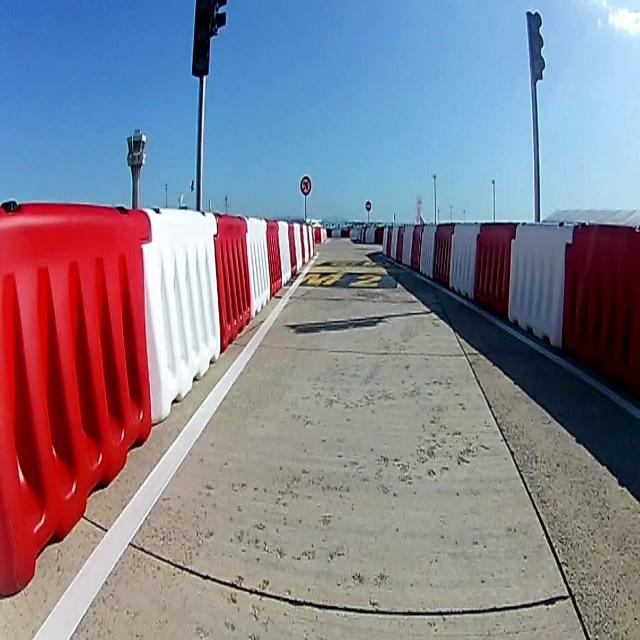girisyok: (365, 201, 371, 211)
soladonulmez: (300, 176, 312, 196)
